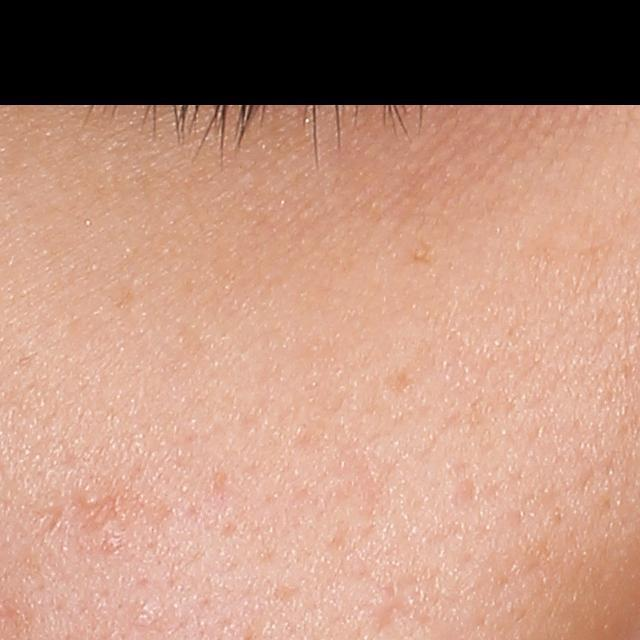atrophic_scar: (370, 574, 421, 633), (71, 494, 121, 535), (447, 461, 483, 514)
melasma: (412, 239, 438, 265)
